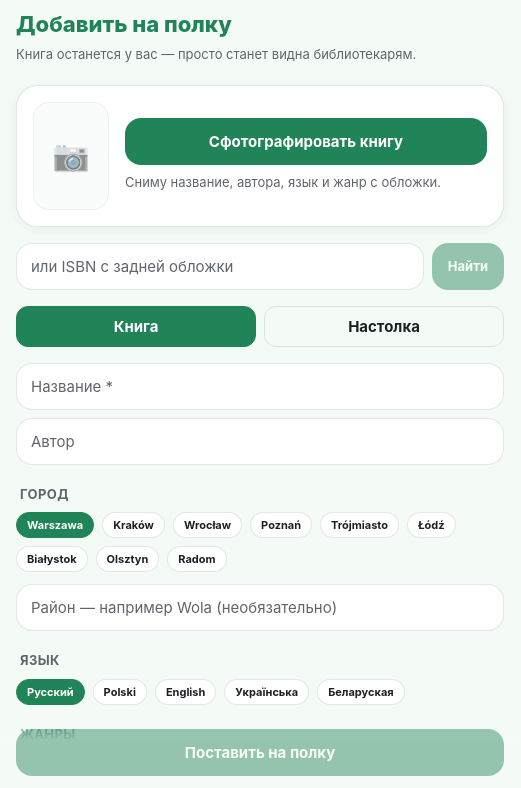
исход модерации после сохранения › когда объяснять нечего (модерация выключена) — лишней строки нет
This screenshot has width=521, height=788.
Type "Дюна" into the field with placeholder "Название *".
click(260, 386); type("Дюна")  # box [16,362,504,410]
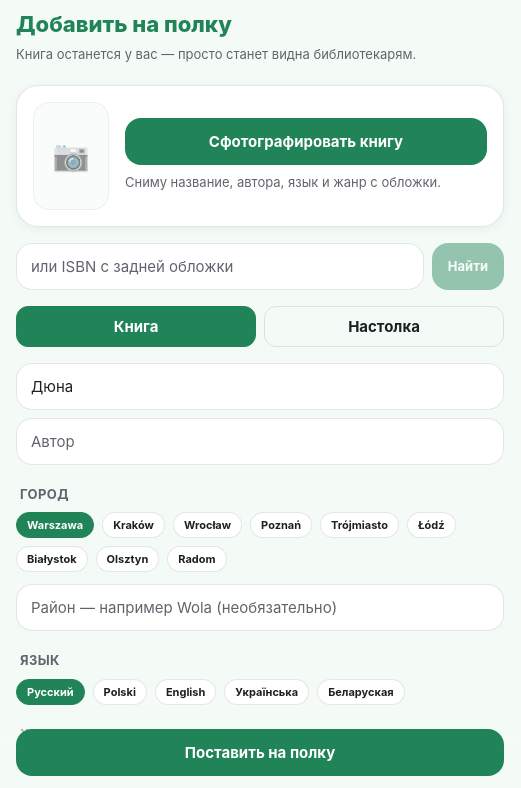
Click the button "Поставить на полку".
click(260, 752)  # box [16,729,504,776]
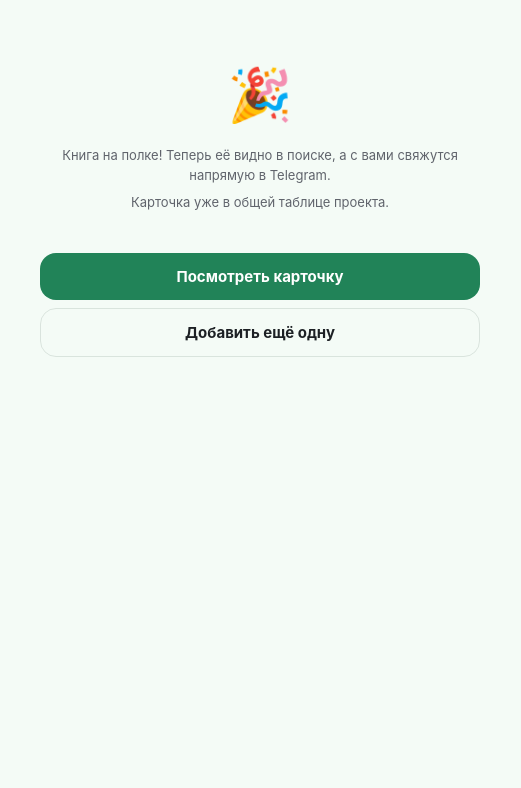
Check: the text "Книга на полке" is shown, box [62,147,458,182]
